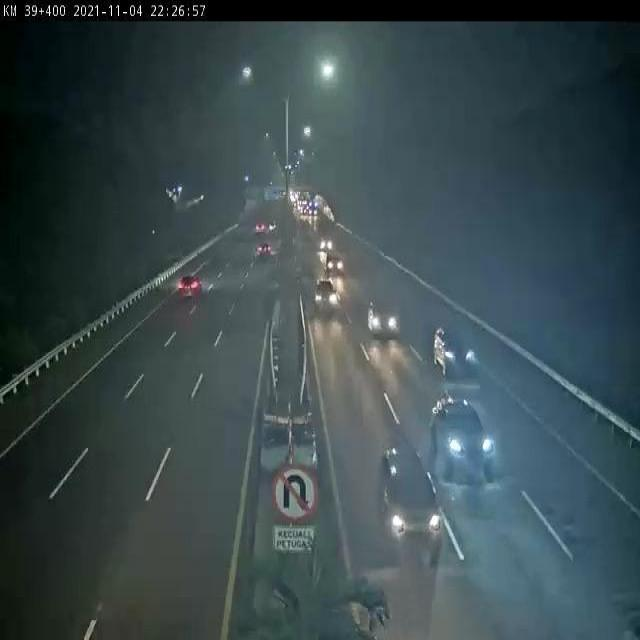car: (377, 445, 444, 547), (429, 398, 493, 478), (434, 319, 477, 377), (366, 293, 403, 340), (313, 276, 340, 312), (176, 274, 201, 302), (324, 250, 345, 274)
